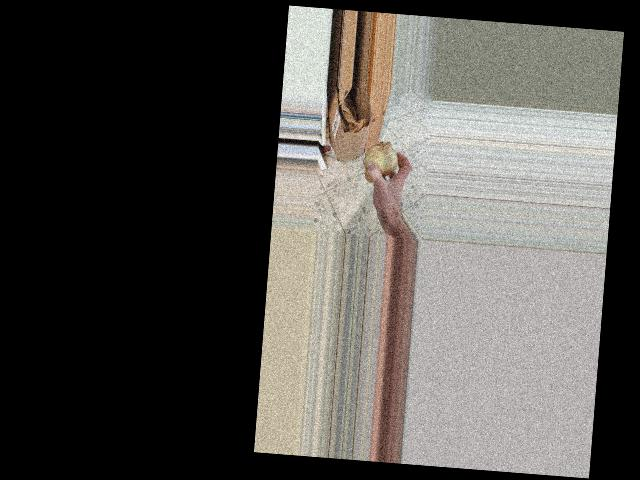onion: (360, 138, 402, 185)
